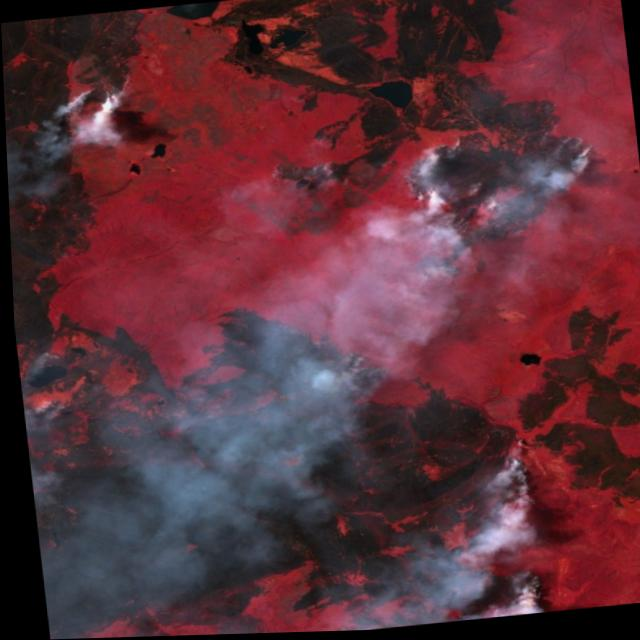fire: (261, 125, 612, 299), (441, 452, 556, 623), (275, 315, 395, 400), (54, 59, 142, 122), (81, 623, 218, 639)
